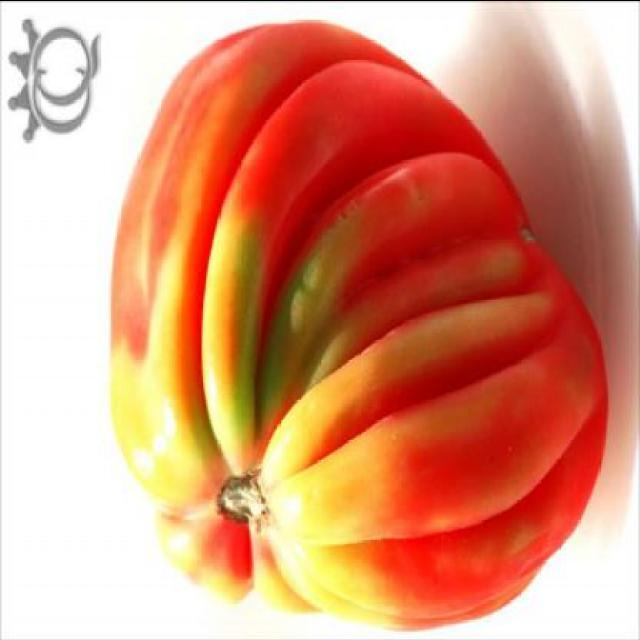Tomato: (107, 22, 607, 636)
